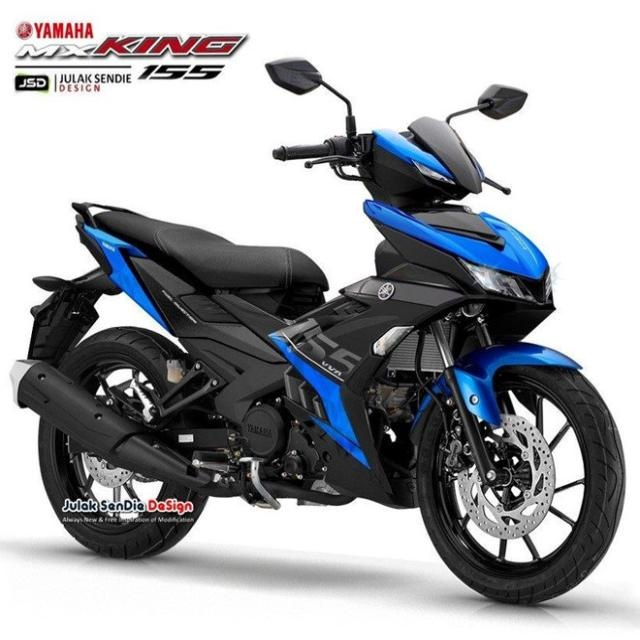Motorcycle: (12, 42, 640, 610)
